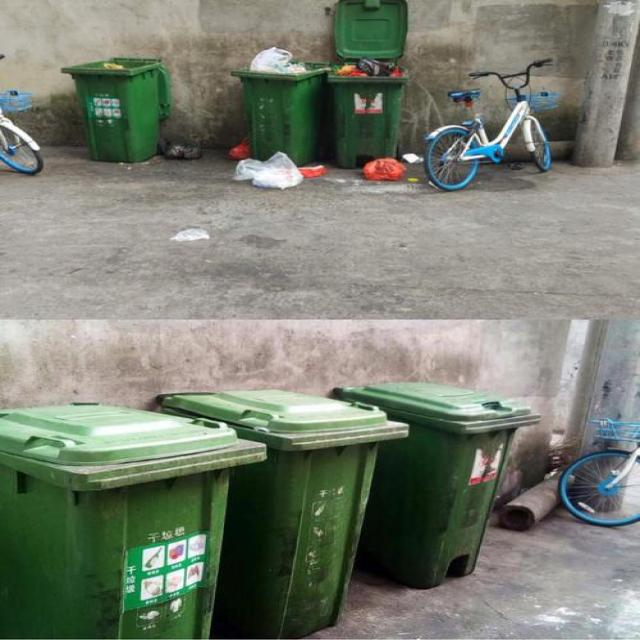garbage: (230, 138, 424, 188)
garbage_bin: (0, 402, 265, 639), (162, 387, 410, 638), (333, 383, 540, 587), (60, 56, 170, 160)
overflow: (230, 46, 330, 163), (324, 57, 407, 167)
